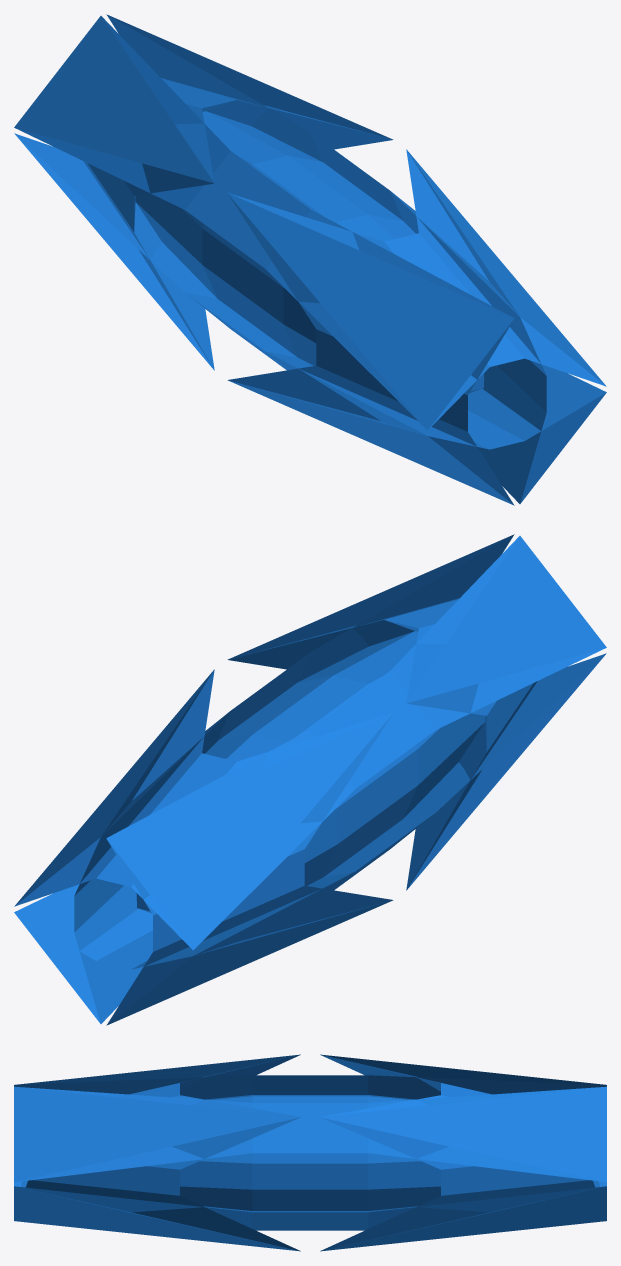
The model's file is tap_block.glb.
The picture shows the model from 3 angles, top to bottom: view 1: azimuth 30°, elevation 25°; view 2: azimuth 150°, elevation 25°; view 3: azimuth 270°, elevation 25°; orthographic projection. The views are drawn at different scales.
Parts seen in each view (by area): view 1: Cube; view 2: Cube; view 3: Cube.
Boxes of the visible parts, bbox=[...] form: Cube: bbox=[14, 14, 606, 505]; Cube: bbox=[14, 534, 606, 1025]; Cube: bbox=[14, 1054, 606, 1251].
Size of the model in its own units: 0.6635 by 0.6635 by 2.65.
